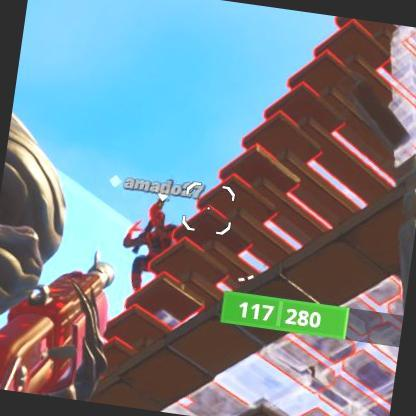person: (126, 206, 171, 270)
